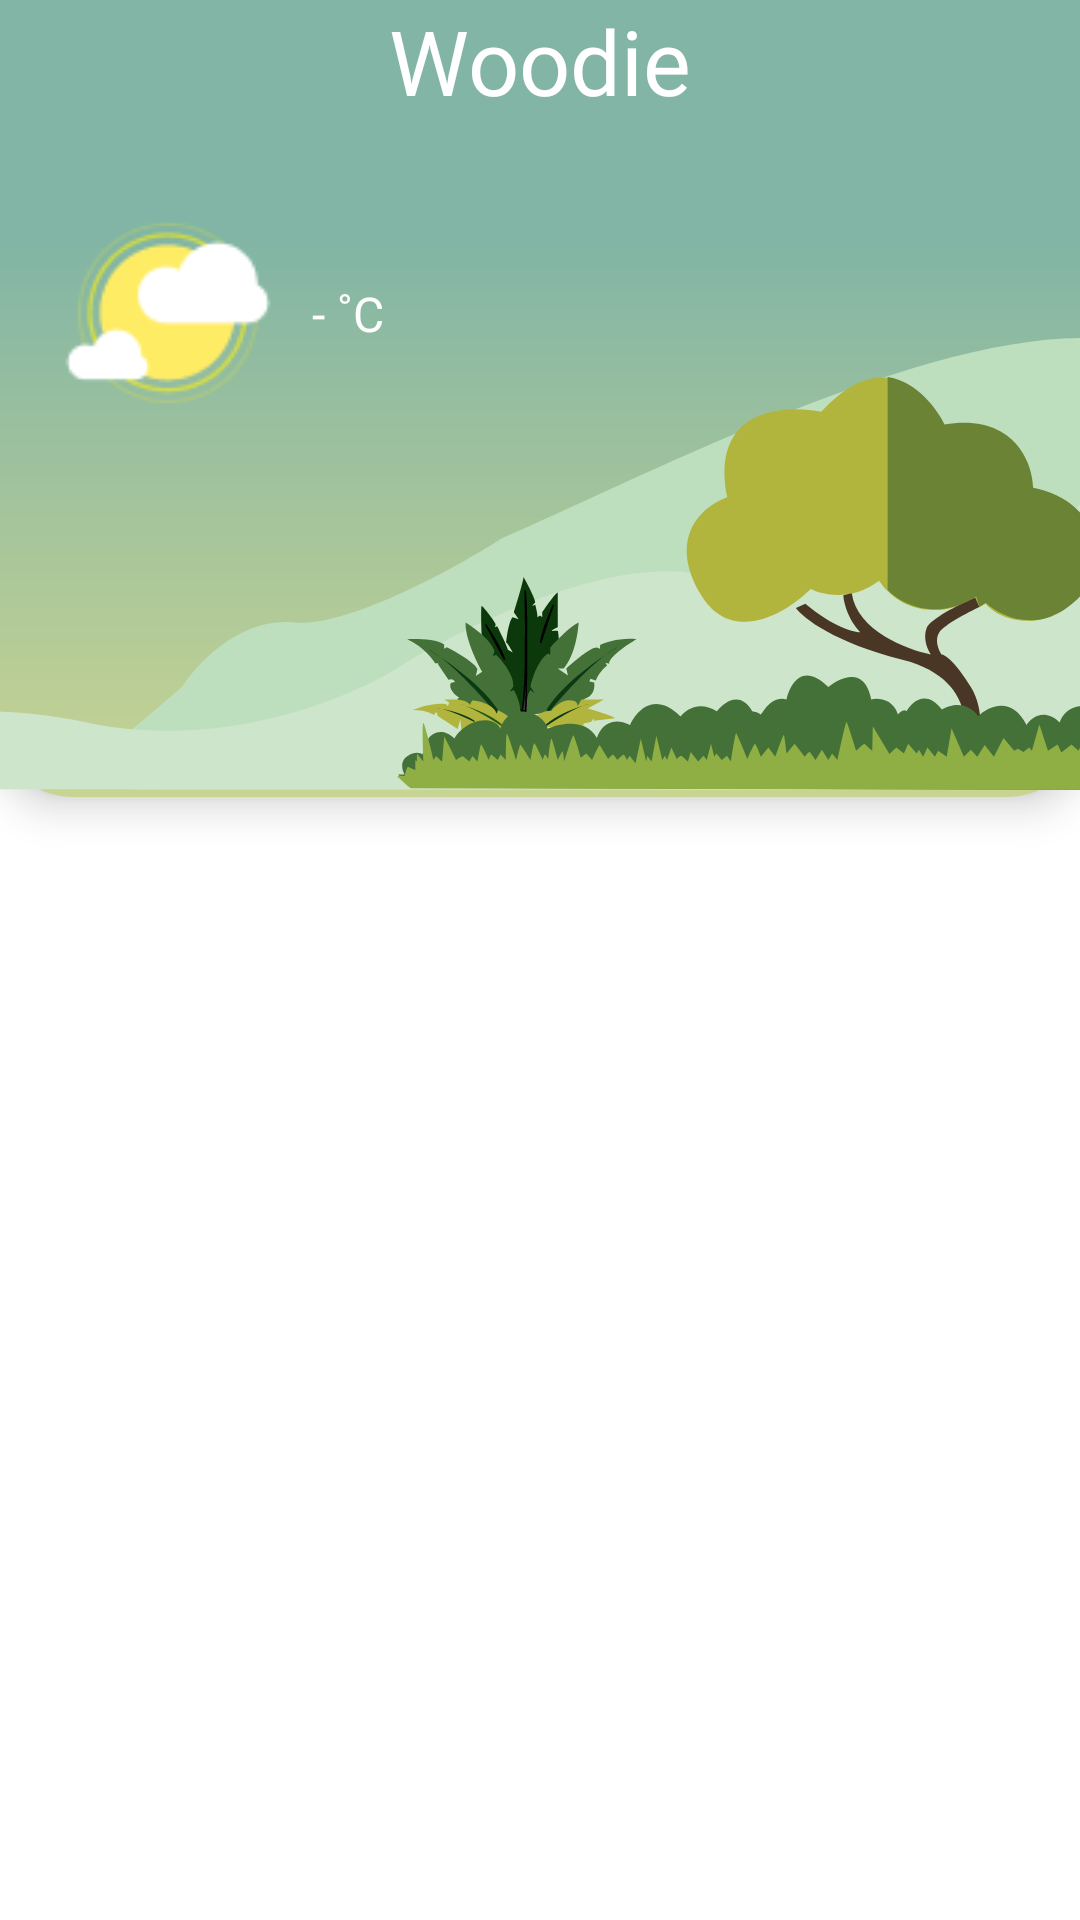

Where icons sit on this 1080×1920 app screen, as (x1, y1, x2, y2):
partly cloudy day: (65, 224, 270, 404)
